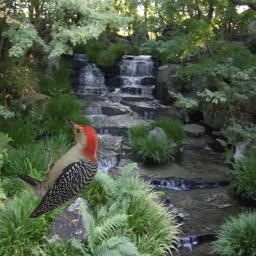Woodpecker: (17, 116, 102, 218)
